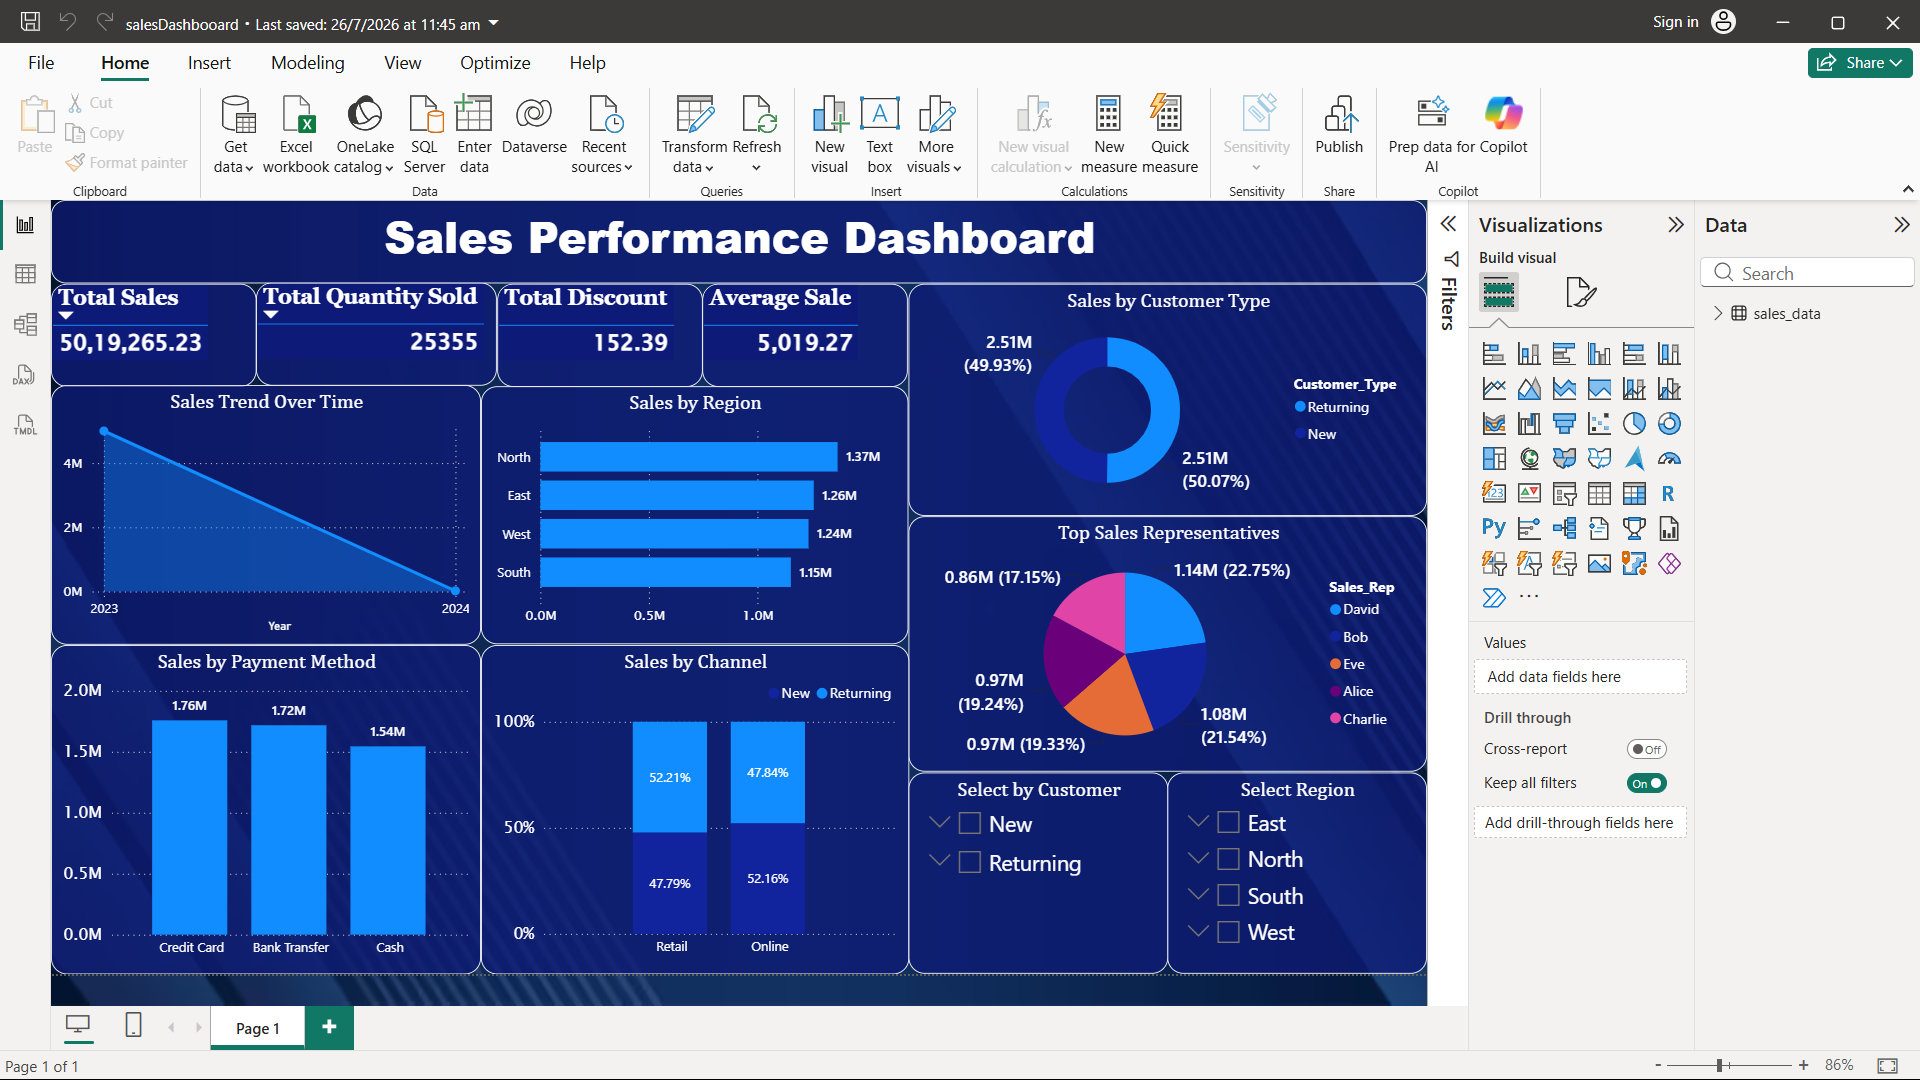

What the dashboard file says about the page in this screenshot:
{"tool":"powerbi","page":{"name":"Page 1","canvas":[1280,720],"ordinal":0},"visuals":[{"type":"tableEx","fields":{"Values":["sales_data.Total Sales"]},"box":[0,77.5,191.2,96.2],"z":0},{"type":"tableEx","fields":{"Values":["sales_data.Total Quantity"]},"box":[191.2,76.2,223.8,96.2],"z":1000},{"type":"tableEx","fields":{"Values":["sales_data.Total Discount"]},"box":[415,77.5,191.2,96.2],"z":2000},{"type":"tableEx","fields":{"Values":["sales_data.Average Sale"]},"box":[606.2,77.5,191.2,96.2],"z":3000},{"type":"lineChart","title":"Sales Trend Over Time","fields":{"Y":["Sum(sales_data.Sales_Amount)"],"Category":["sales_data.Sale_Date.Variation.Date Hierarchy.Quarter"]},"box":[0,172.5,400,241.2],"z":4000},{"type":"textbox","title":"Sales Performance Dashboard","box":[0,0,1280,77.5],"z":5000},{"type":"clusteredBarChart","title":"Sales by Region","fields":{"Category":["sales_data.Region"],"Y":["Sum(sales_data.Sales_Amount)"]},"box":[400,173.8,397.5,240],"z":6000},{"type":"donutChart","title":"Sales by Customer Type","fields":{"Category":["sales_data.Customer_Type"],"Y":["Sum(sales_data.Sales_Amount)"]},"box":[797.5,77.5,482.5,216.2],"z":7000},{"type":"pieChart","title":"Sales Performance by Representative","fields":{"Category":["sales_data.Sales_Rep"],"Y":["sales_data.Total Sales"]},"box":[797.5,293.8,482.5,237.5],"z":8000},{"type":"clusteredColumnChart","title":"Sales by Payment Method","fields":{"Y":["sales_data.Total Sales"],"Category":["sales_data.Payment_Method"]},"box":[0,413.8,400,306.2],"z":9000},{"type":"hundredPercentStackedColumnChart","title":"Sales by Sales Channel","fields":{"Category":["sales_data.Sales_Channel"],"Y":["Sum(sales_data.Sales_Amount)"],"Series":["sales_data.Customer_Type"]},"box":[400,414,398,306],"z":10000},{"type":"slicer","title":"Select Region","fields":{"Values":["sales_data.Region","sales_data.Sales_Channel"]},"box":[1038.8,532.5,241.2,187.5],"z":11000},{"type":"slicer","title":"Select by Customer","fields":{"Values":["sales_data.Customer_Type","sales_data.Product_Category"]},"box":[797.5,532.5,241.2,187.5],"z":12000}]}

Visuals, with their boxes on the page's 1280x720 design canvas (x1, y1, x2, y2). These are canvas units, not pixel positions in the 1920x1080 screenshot, which may show the page scaled, cropped or inside an application window:
tableEx - sales_data.Total Sales: crop(0, 78, 191, 174)
tableEx - sales_data.Total Quantity: crop(191, 76, 415, 172)
tableEx - sales_data.Total Discount: crop(415, 78, 606, 174)
tableEx - sales_data.Average Sale: crop(606, 78, 797, 174)
"Sales Trend Over Time" lineChart: crop(0, 172, 400, 414)
"Sales Performance Dashboard" textbox: crop(0, 0, 1280, 78)
"Sales by Region" clusteredBarChart: crop(400, 174, 798, 414)
"Sales by Customer Type" donutChart: crop(798, 78, 1280, 294)
"Sales Performance by Representative" pieChart: crop(798, 294, 1280, 531)
"Sales by Payment Method" clusteredColumnChart: crop(0, 414, 400, 720)
"Sales by Sales Channel" hundredPercentStackedColumnChart: crop(400, 414, 798, 720)
"Select Region" slicer: crop(1039, 532, 1280, 720)
"Select by Customer" slicer: crop(798, 532, 1039, 720)
